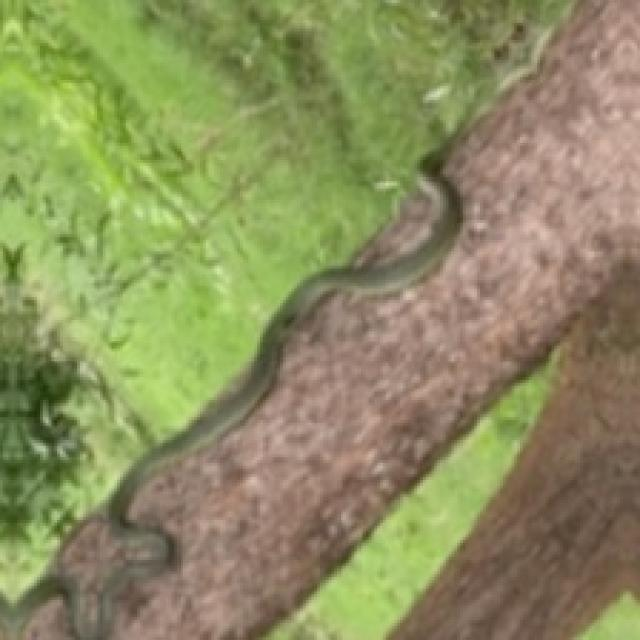paradise tree snake: (23, 0, 637, 637), (411, 411, 637, 637)
